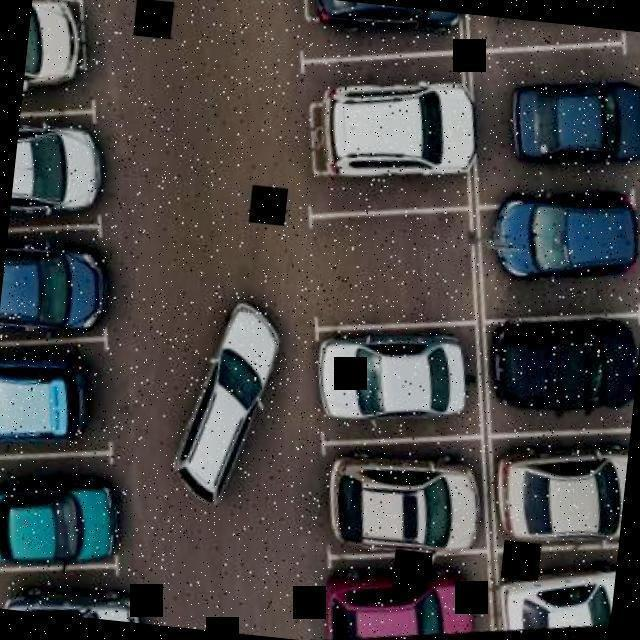Car: (311, 66, 477, 212), (174, 301, 286, 507), (321, 445, 494, 558), (316, 328, 482, 432), (492, 438, 640, 550), (503, 71, 640, 185), (483, 200, 640, 299), (488, 321, 640, 422), (330, 558, 491, 636), (5, 459, 119, 569), (497, 557, 640, 640), (1, 349, 109, 453), (6, 235, 106, 340), (6, 570, 146, 640), (9, 120, 100, 222), (4, 0, 94, 102), (302, 0, 460, 55)
Free: (315, 215, 481, 328), (463, 0, 638, 77)
